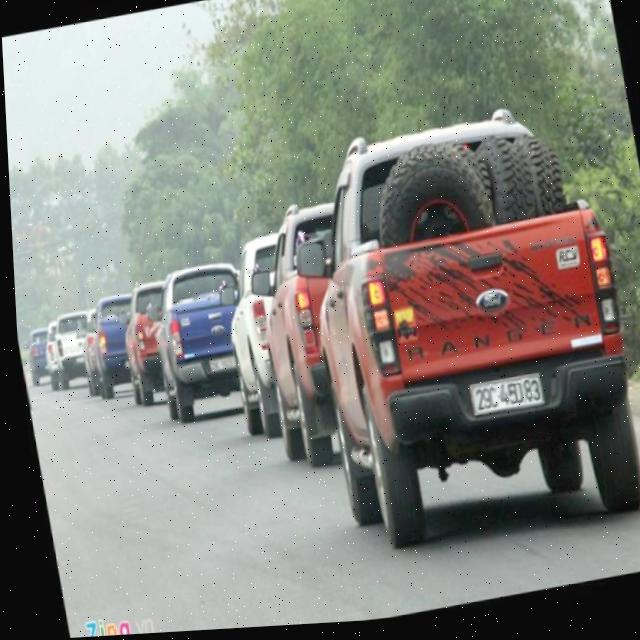car: (267, 104, 640, 563), (127, 255, 264, 432), (23, 302, 103, 398)
plate: (465, 368, 552, 420)
